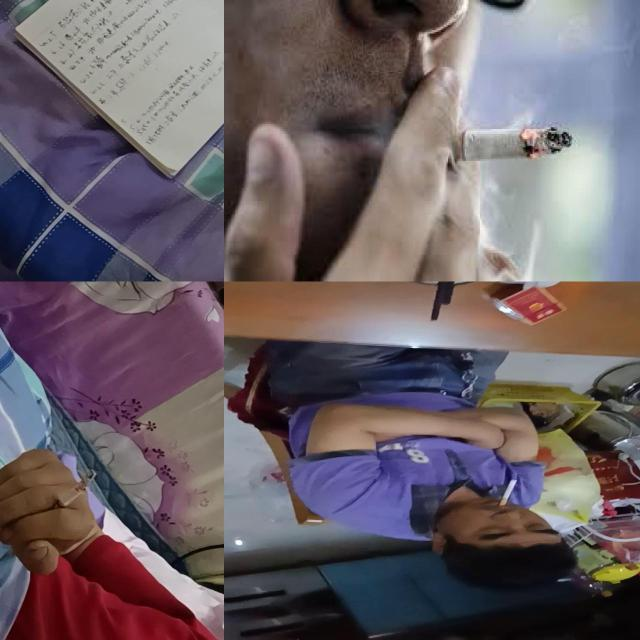smoking: (406, 126, 574, 166), (51, 470, 98, 514), (500, 479, 518, 506)
